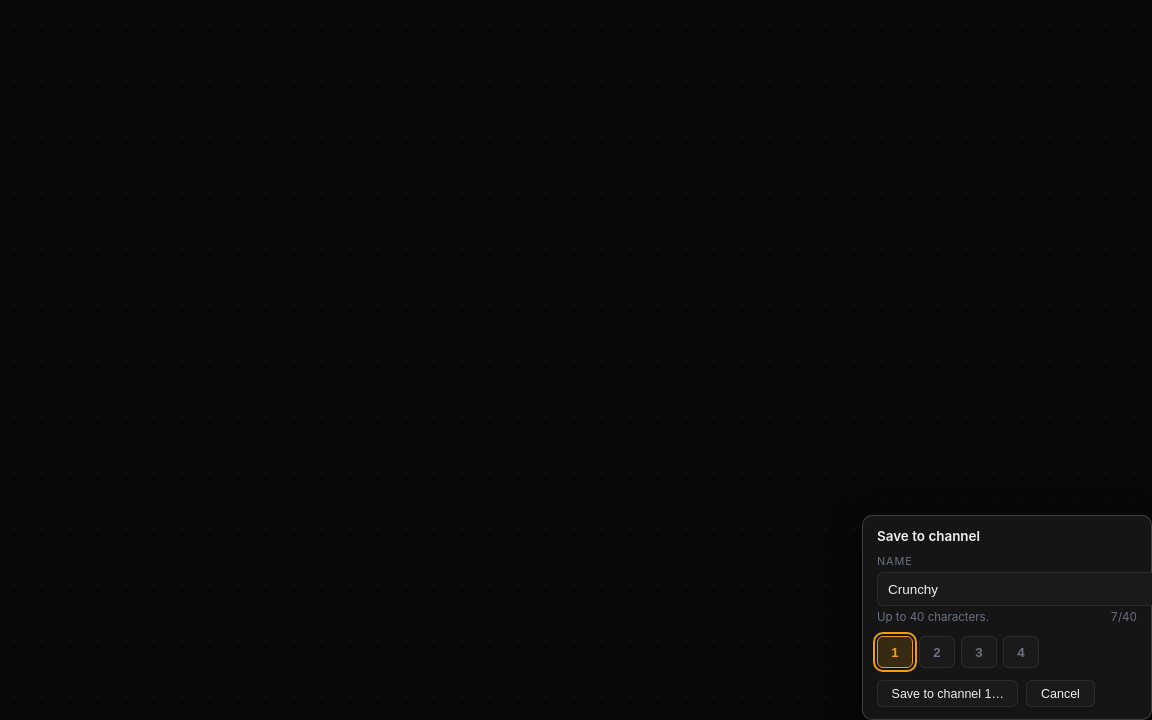
Scenario: save slot picker › asks before overwriting and saves to the chosen slot
(page scrolled)
Step 1. Click the radio button named "Slot 4" → (1021, 652), box [1003,636,1039,668]
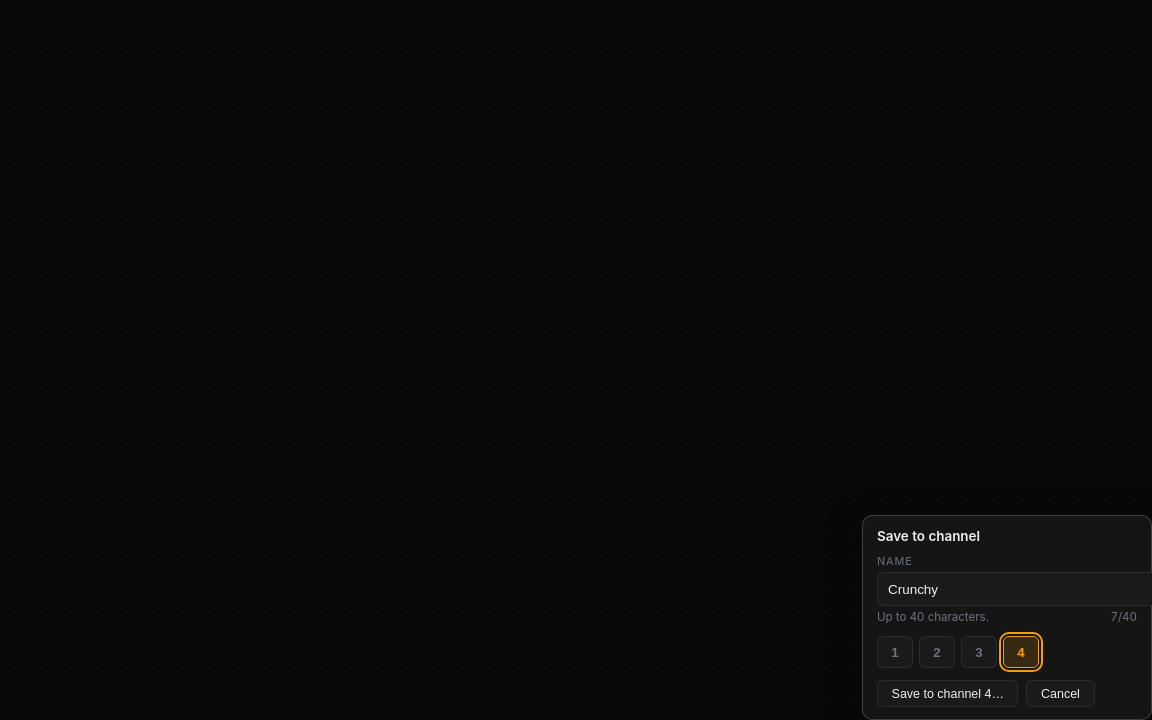
Step 2. Click the button "Save to channel 4…" → (948, 694), box [877,680,1018,707]
(page scrolled)
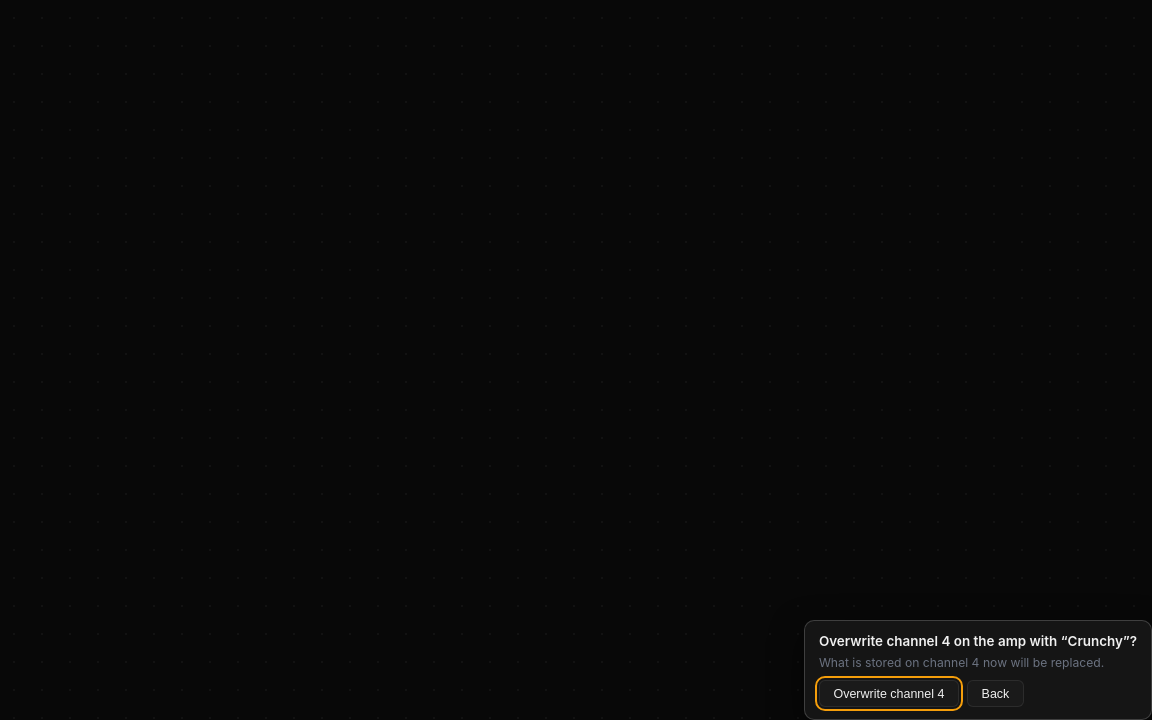
Check: the text "Overwrite channel 4 on the amp with “Crunchy”?" is shown, box [819,633,1137,649]
Step 3. Click the button "Overwrite channel 4" → (889, 694), box [819,680,959,707]
(page scrolled)
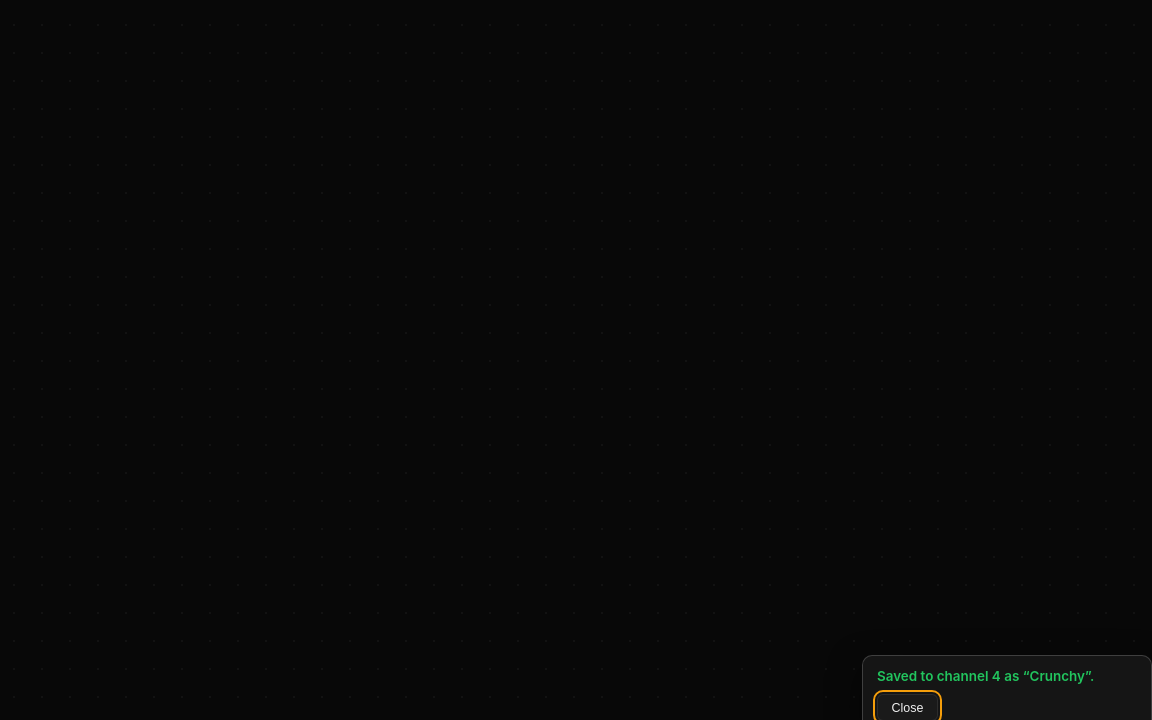
Check: the message reads "Saved to channel 4 as “Crunchy”.", box [877,668,1094,684]
